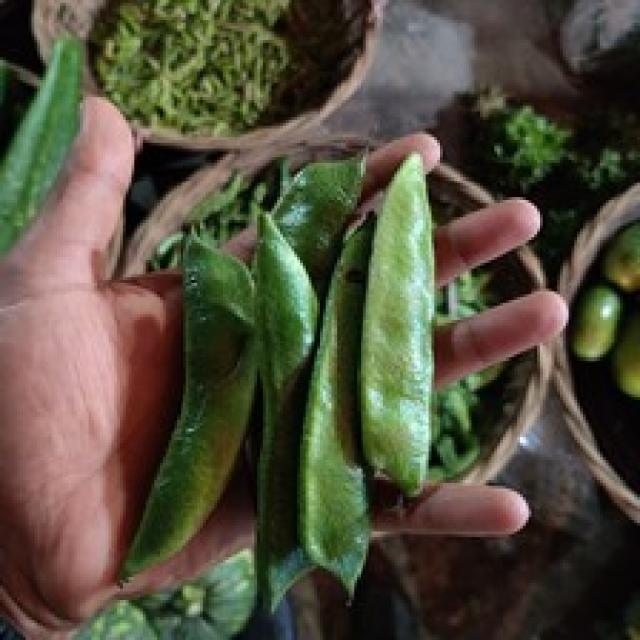Bean: (114, 143, 437, 611)
